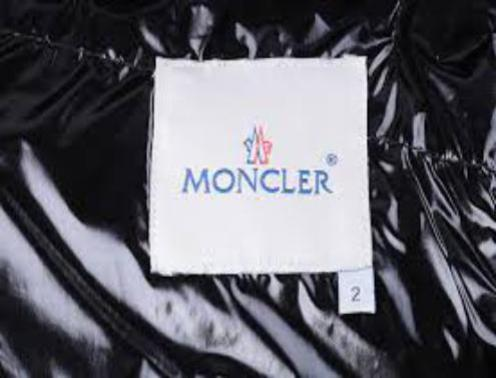MONCLER: (179, 165, 334, 199), (239, 125, 277, 165)
